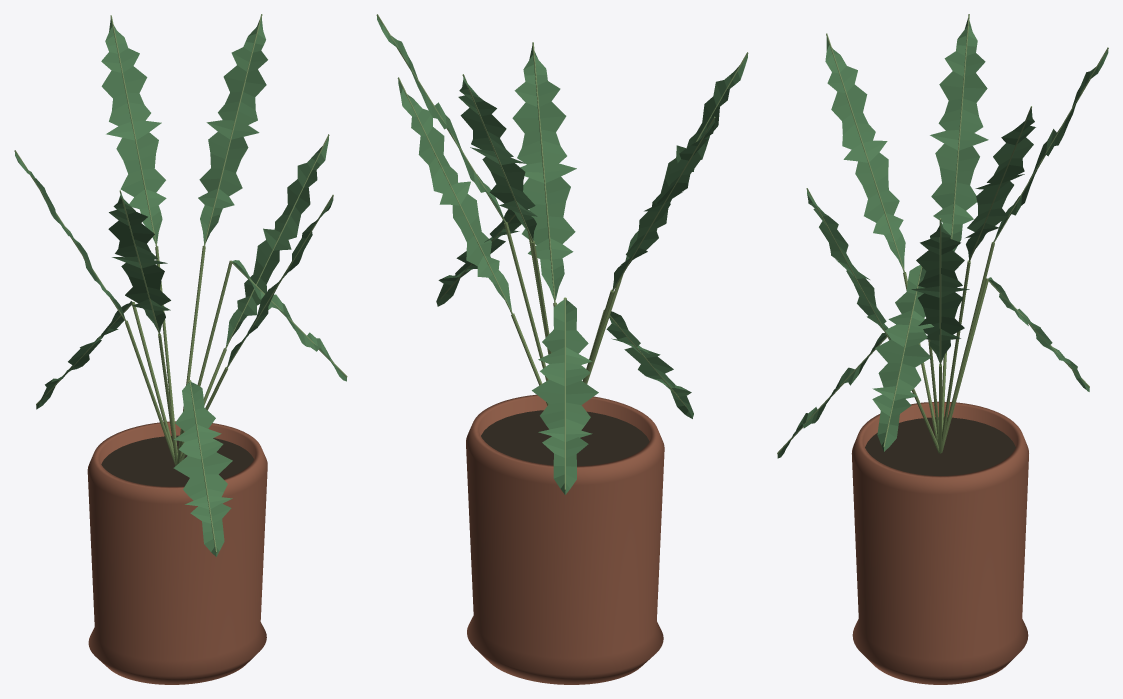
Rendered from island-fern.glb.
3 views of the same model, side by side, from view 1: azimuth 30°, elevation 25°; view 2: azimuth 150°, elevation 25°; view 3: azimuth 270°, elevation 25° (orthographic). The views are drawn at different scales.
Parts seen in each view (by area): view 1: island-fern; view 2: island-fern; view 3: island-fern.
Part boxes in pixels (bbox=[...]): island-fern: bbox=[14, 14, 347, 684]; island-fern: bbox=[376, 14, 748, 684]; island-fern: bbox=[777, 14, 1108, 684].
Bounding box in the file's own units: 0.31 × 0.5681 × 0.28.
